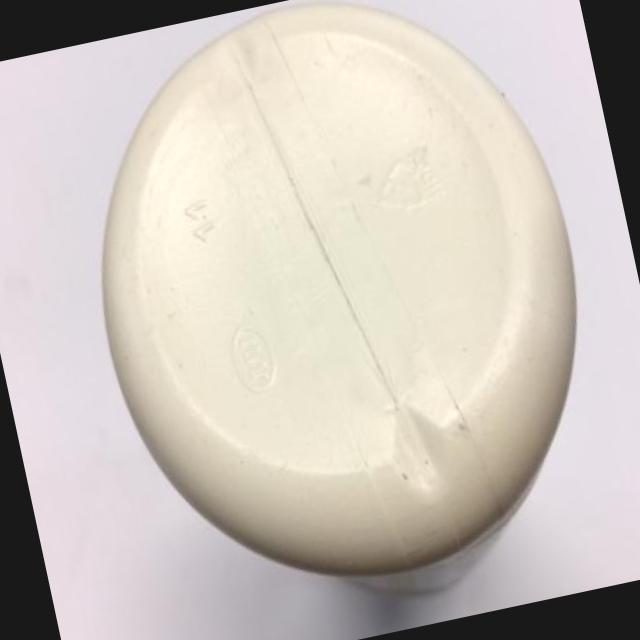Recycle: (47, 0, 635, 640)
